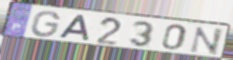0: (160, 23, 188, 52)
2: (93, 16, 125, 46)
3: (129, 20, 157, 48)
A: (57, 14, 91, 42)
G: (30, 10, 62, 38)
N: (188, 26, 225, 57)
